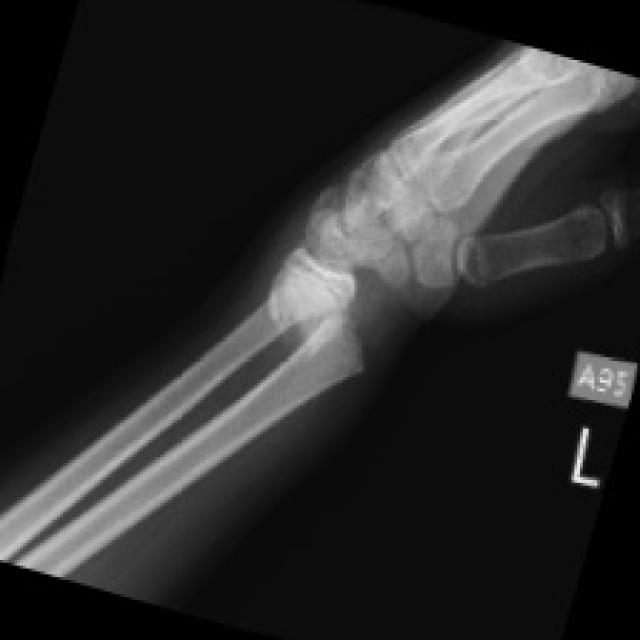fracture: (325, 249, 464, 421)
